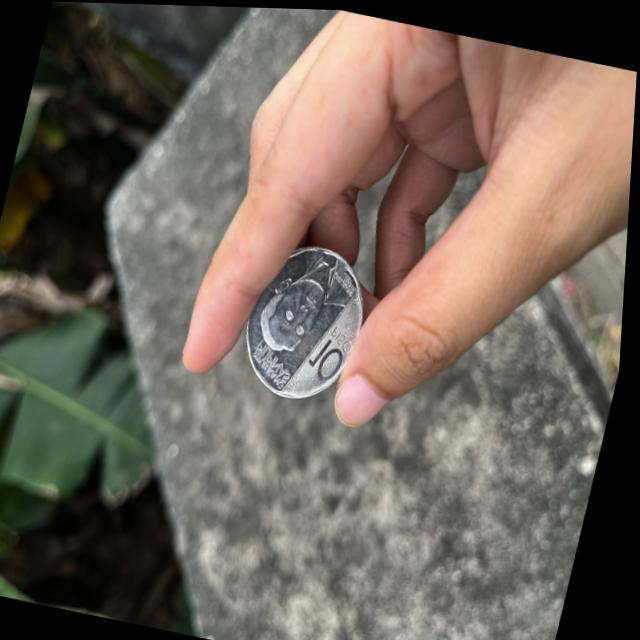10_New_Front: (295, 300, 364, 393)
